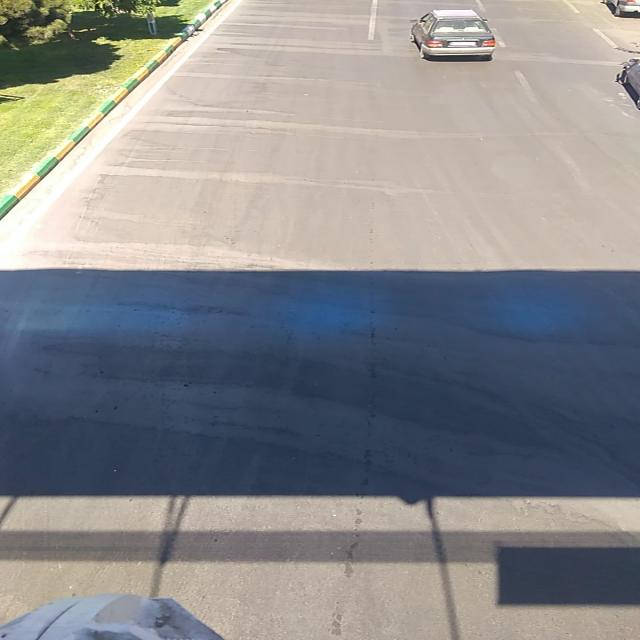car: (405, 9, 498, 59)
